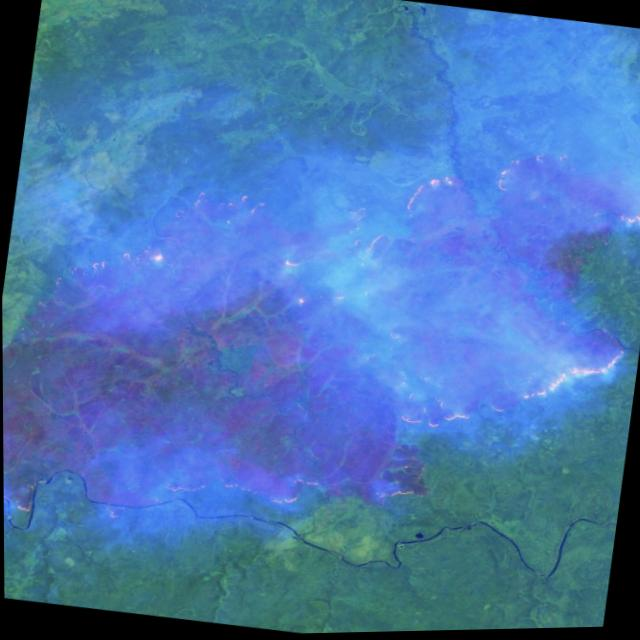fire: (238, 101, 640, 473), (1, 132, 260, 335)
